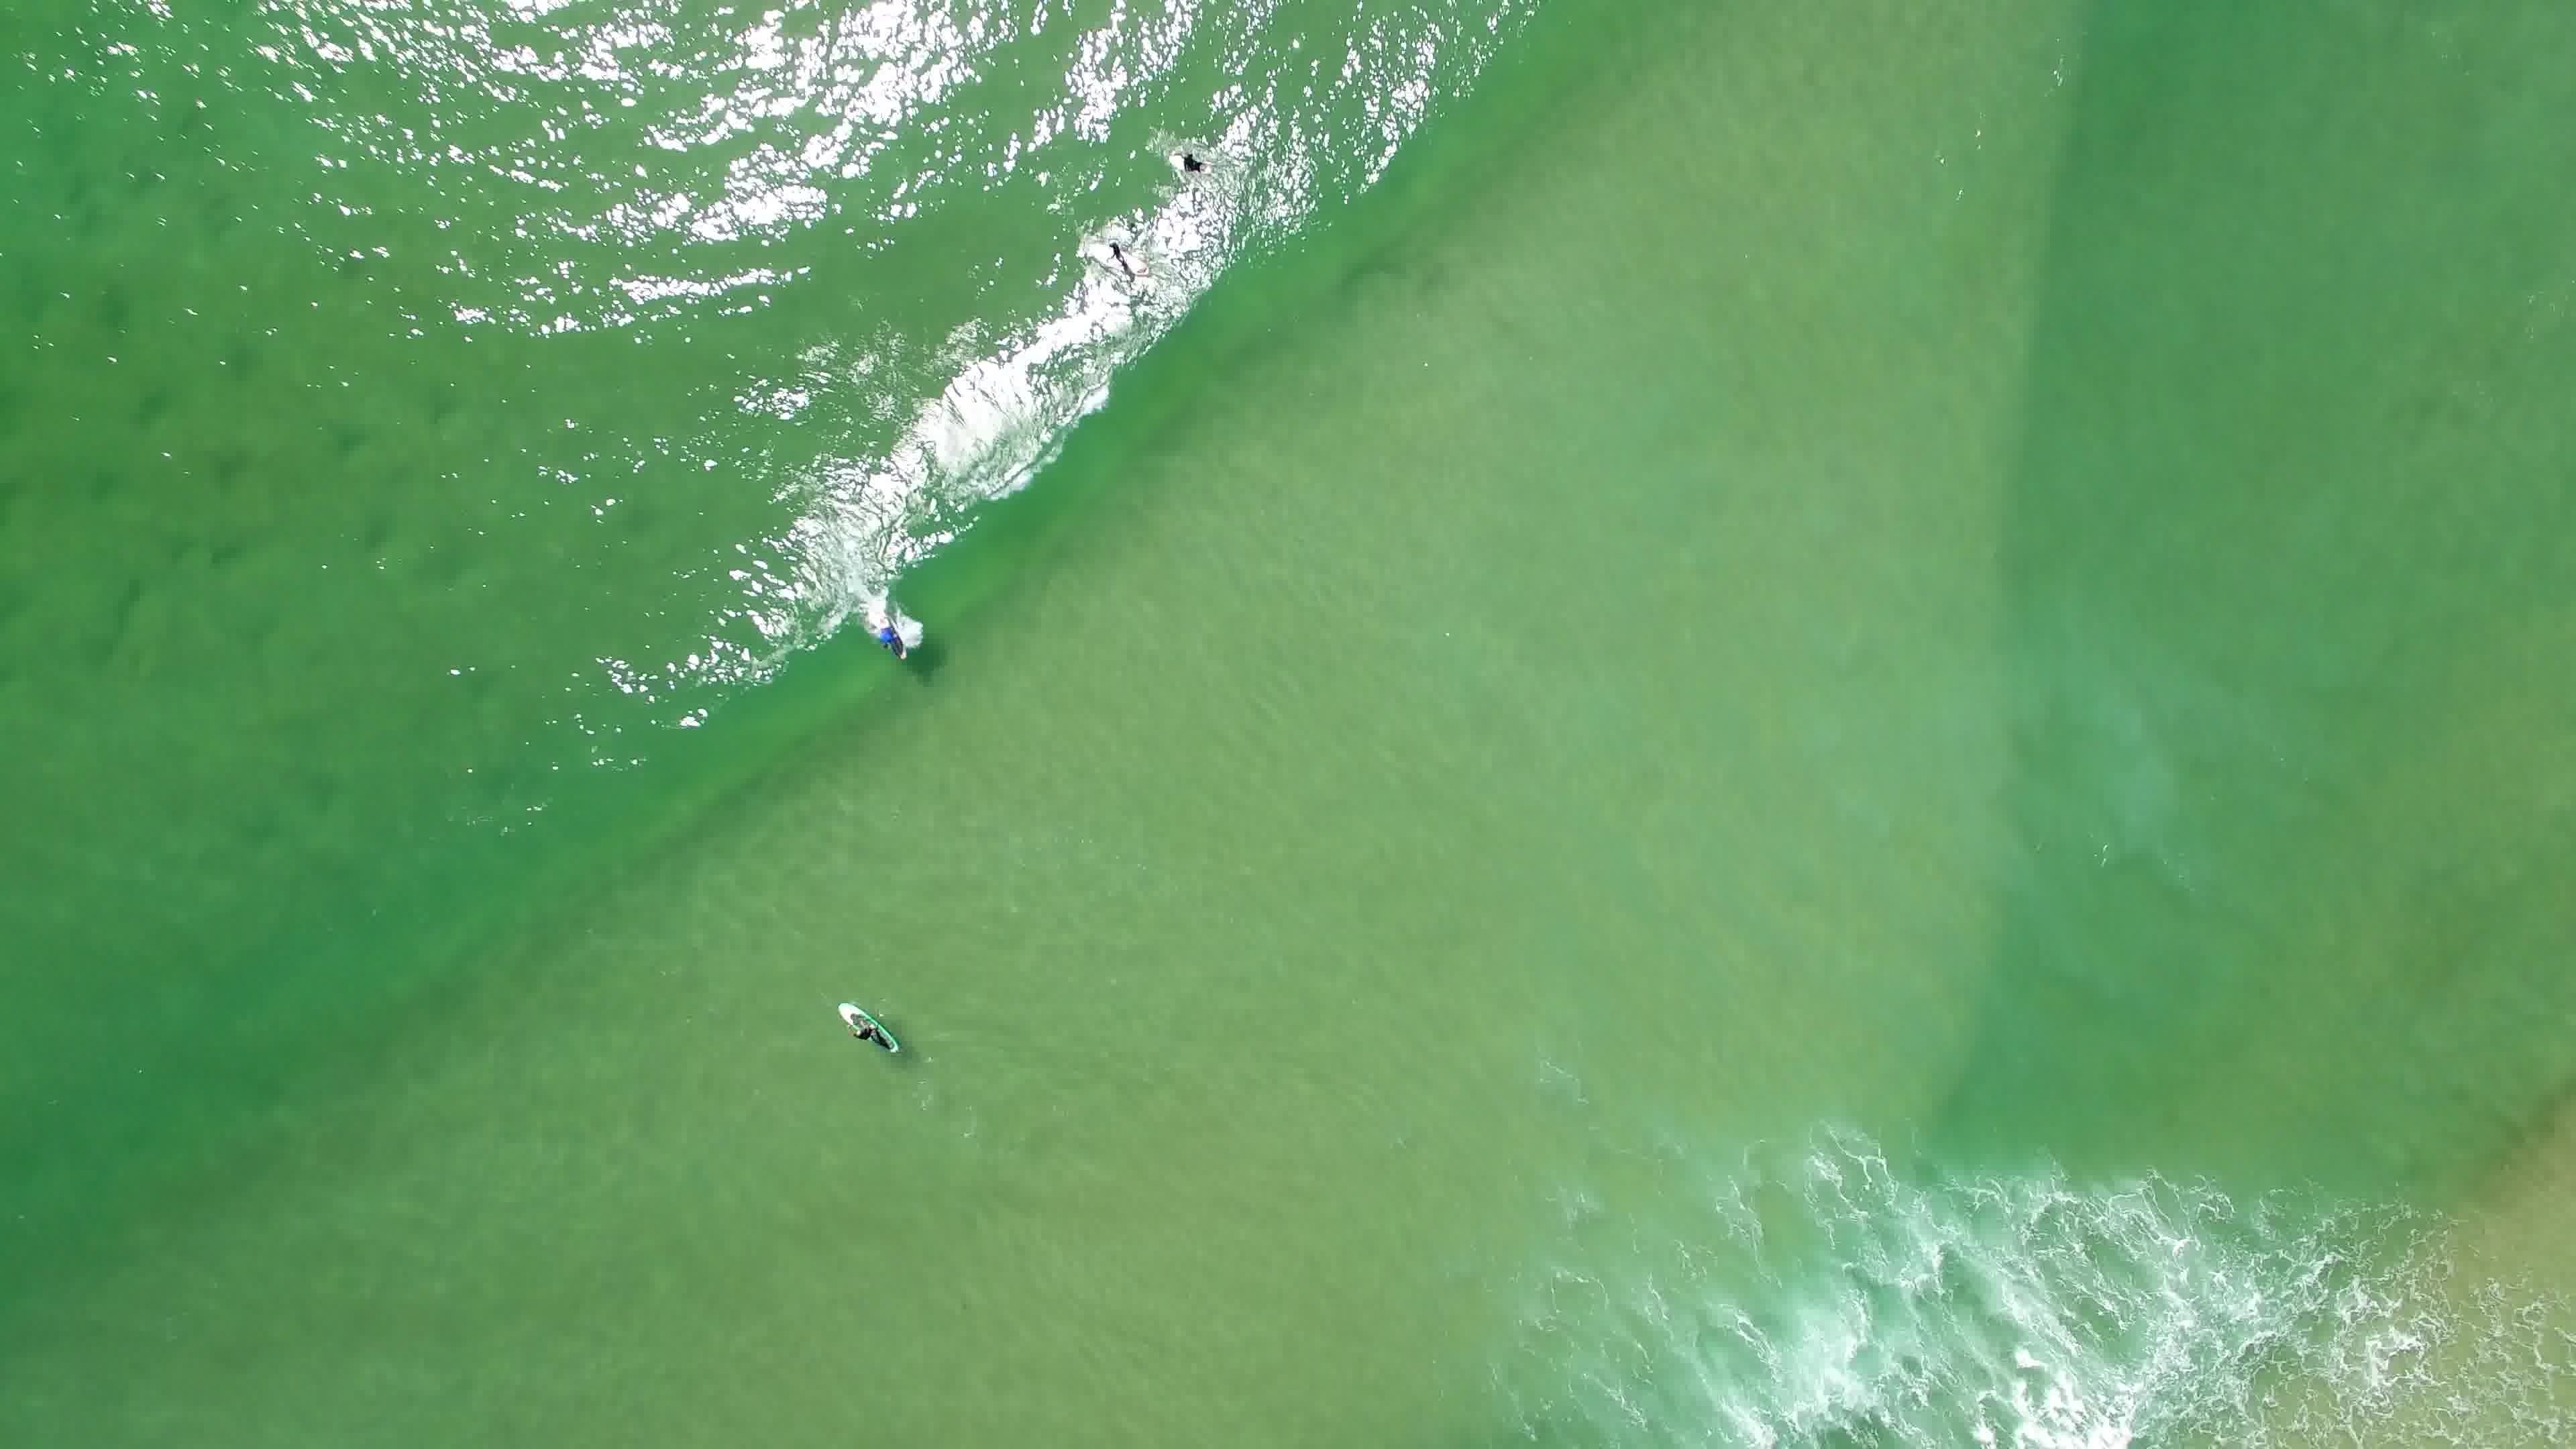surfer: (830, 991, 908, 1067), (853, 591, 924, 667), (1083, 235, 1148, 280), (1168, 145, 1228, 191)
